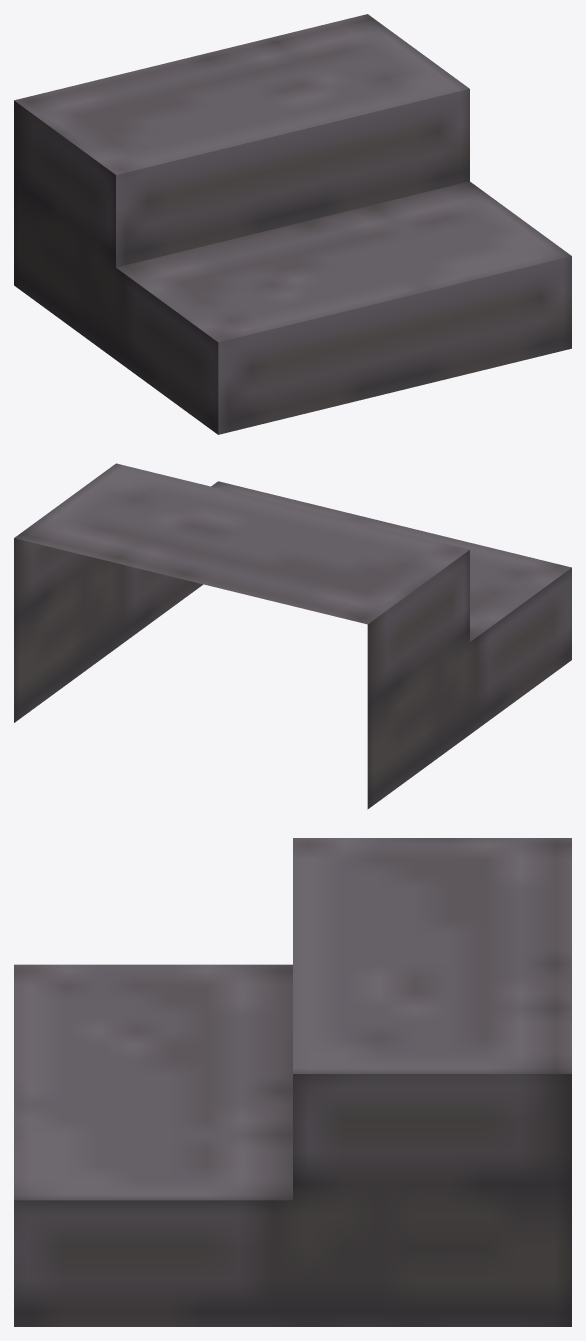
File: stair_wide_16_purple.fbx
The picture shows the model from 3 angles, top to bottom: view 1: azimuth 30°, elevation 25°; view 2: azimuth 150°, elevation 25°; view 3: azimuth 270°, elevation 25°; orthographic projection. The views are drawn at different scales.
Visible parts, largest first — view 1: stair_wide_16_purple; view 2: stair_wide_16_purple; view 3: stair_wide_16_purple.
Boxes of the visible parts, <box> form: stair_wide_16_purple: <box>14,14,571,434</box>; stair_wide_16_purple: <box>14,463,571,809</box>; stair_wide_16_purple: <box>14,838,571,1326</box>.
Size of the model in its own units: 16 by 8 by 16.
